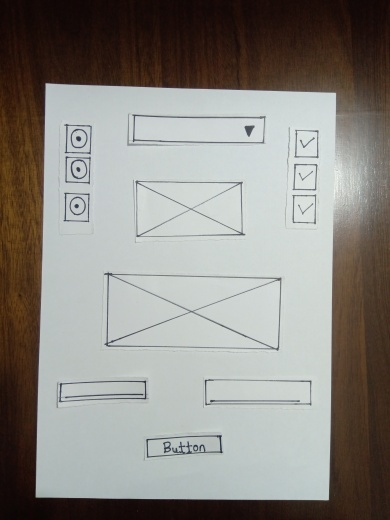button: (149, 440, 221, 455)
checkbox: (295, 131, 318, 156), (293, 194, 316, 219), (294, 166, 317, 191)
dropdown: (131, 116, 265, 146)
img: (108, 273, 278, 350), (139, 181, 243, 235)
radio: (67, 125, 90, 153), (66, 191, 89, 219), (68, 158, 91, 186)
text: (201, 379, 310, 405), (56, 382, 149, 398)
